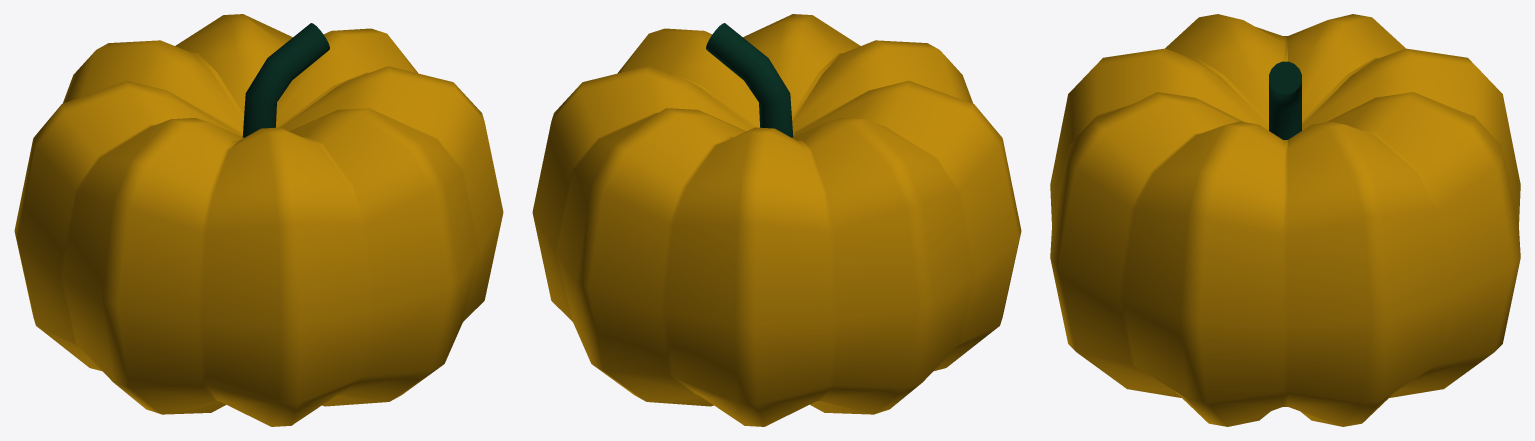
Rendered from Pumpkin02.fbx.
The picture shows the model from 3 angles, left to right: view 1: azimuth 30°, elevation 25°; view 2: azimuth 150°, elevation 25°; view 3: azimuth 270°, elevation 25°; orthographic projection. The views are drawn at different scales.
Parts seen in each view (by area): view 1: Pumpkins2_high; view 2: Pumpkins2_high; view 3: Pumpkins2_high.
Boxes of the visible parts, x1,y1,x2,y2 form: Pumpkins2_high: (14, 14, 503, 426); Pumpkins2_high: (532, 14, 1021, 426); Pumpkins2_high: (1050, 14, 1520, 426).
Bounding box in the file's own units: 2.02 × 1.67 × 2.02.
